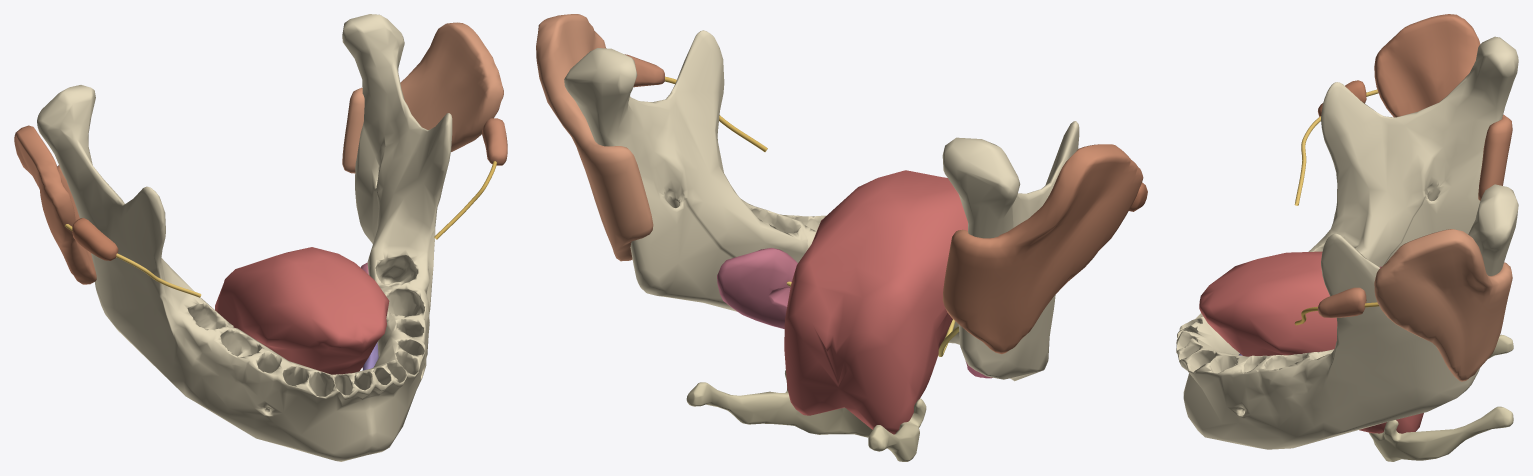
The model's file is salivary-glands.glb.
3 renders of one model, left to right at view 1: azimuth 30°, elevation 25°; view 2: azimuth 150°, elevation 25°; view 3: azimuth 270°, elevation 25°, orthographic. The views are drawn at different scales.
Parts seen in each view (by area): view 1: mandible, tongue, left-parotid-gland, right-parotid-gland, right-accessory-parotid-gland, left-accessory-parotid-gland; view 2: mandible, tongue, right-parotid-gland, left-parotid-gland, hyoid-bone, left-submandibular-gland, left-accessory-parotid-gland; view 3: mandible, left-parotid-gland, tongue, right-parotid-gland, hyoid-bone, left-accessory-parotid-gland, right-parotid-duct.
Boxes of the visible parts, <box> form: mandible: <box>37,14,452,461</box>; tongue: <box>215,247,389,374</box>; left-parotid-gland: <box>342,22,503,173</box>; right-parotid-gland: <box>14,125,96,284</box>; right-accessory-parotid-gland: <box>72,218,118,260</box>; left-accessory-parotid-gland: <box>482,118,507,165</box>; mandible: <box>564,30,1079,381</box>; tongue: <box>784,170,967,434</box>; right-parotid-gland: <box>942,144,1143,354</box>; left-parotid-gland: <box>536,14,653,261</box>; hyoid-bone: <box>686,370,926,461</box>; left-submandibular-gland: <box>717,248,797,328</box>; left-accessory-parotid-gland: <box>625,54,664,87</box>; mandible: <box>1176,36,1518,449</box>; left-parotid-gland: <box>1374,229,1512,381</box>; tongue: <box>1199,251,1423,433</box>; right-parotid-gland: <box>1374,14,1512,200</box>; hyoid-bone: <box>1368,334,1513,461</box>; left-accessory-parotid-gland: <box>1317,287,1366,317</box>; right-parotid-duct: <box>1294,89,1378,205</box>.
Bounding box in the file's own units: 3.25 × 2.18 × 2.05.
